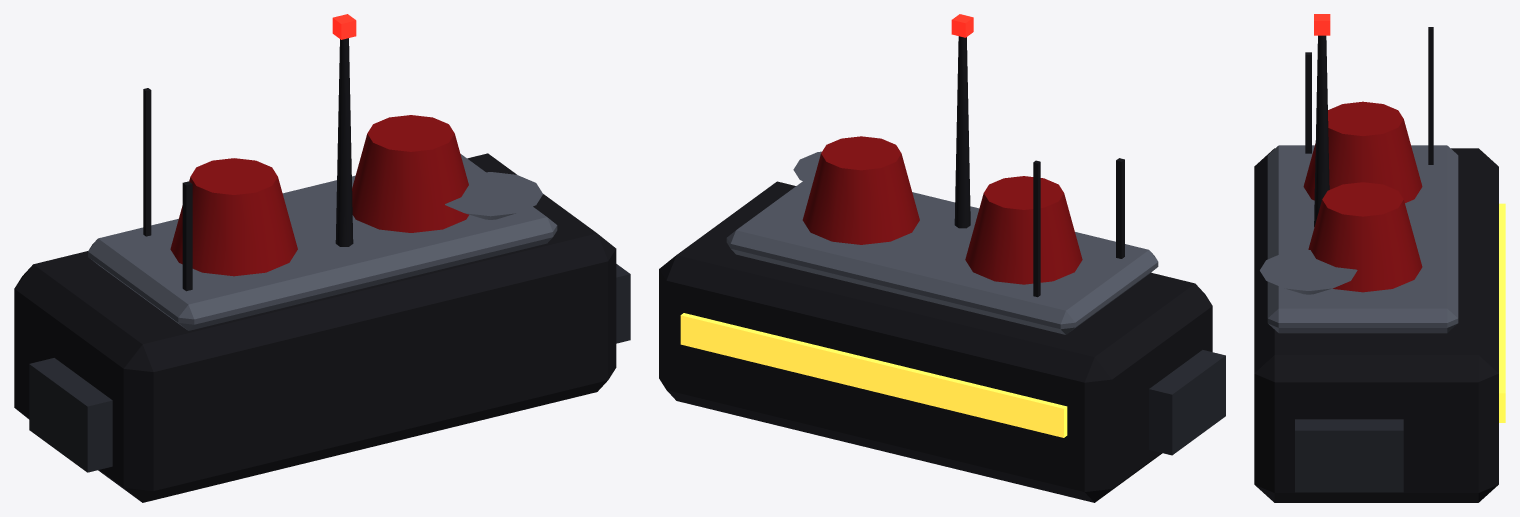
The model's file is destroyer_bridge.glb.
The picture shows the model from 3 angles, left to right: view 1: azimuth 30°, elevation 25°; view 2: azimuth 150°, elevation 25°; view 3: azimuth 270°, elevation 25°; orthographic projection. The views are drawn at different scales.
Parts seen in each view (by area): view 1: BridgeBlock, BridgeRoof, SensorDomeR, SensorDomeL, BridgeDetailHullDark, BridgeDish, Antenna, BridgeDetailDark; view 2: BridgeBlock, BridgeRoof, BridgeWindows, SensorDomeR, SensorDomeL, BridgeDetailHullDark, Antenna, BridgeDetailDark; view 3: BridgeBlock, BridgeRoof, SensorDomeR, BridgeDetailHullDark, SensorDomeL, BridgeDish, Antenna, BridgeDetailDark, BridgeWindows, BridgeDetailRunningLight.
Boxes of the visible parts, box(x1,y1,x2,y2) form: BridgeBlock: box(14, 153, 616, 502); BridgeRoof: box(88, 154, 557, 330); SensorDomeR: box(352, 115, 468, 232); SensorDomeL: box(170, 158, 297, 276); BridgeDetailHullDark: box(29, 264, 630, 472); BridgeDish: box(445, 172, 542, 219); Antenna: box(335, 38, 353, 246); BridgeDetailDark: box(143, 88, 192, 291); BridgeBlock: box(659, 181, 1212, 502); BridgeRoof: box(726, 181, 1158, 334); BridgeWindows: box(680, 313, 1067, 437); SensorDomeR: box(802, 136, 919, 244); SensorDomeL: box(965, 176, 1082, 284); BridgeDetailHullDark: box(1149, 350, 1225, 455); Antenna: box(954, 36, 970, 228); BridgeDetailDark: box(1033, 158, 1124, 297); BridgeBlock: box(1254, 148, 1498, 502); BridgeRoof: box(1267, 145, 1458, 333); SensorDomeR: box(1308, 182, 1422, 292); BridgeDetailHullDark: box(1295, 419, 1403, 492); SensorDomeL: box(1303, 101, 1422, 202); BridgeDish: box(1260, 249, 1357, 294); Antenna: box(1314, 35, 1329, 226); BridgeDetailDark: box(1305, 27, 1433, 164); BridgeWindows: box(1499, 203, 1505, 422); BridgeDetailRunningLight: box(1314, 14, 1330, 35).
Bounding box in the file's own units: 86 × 62 × 37.
